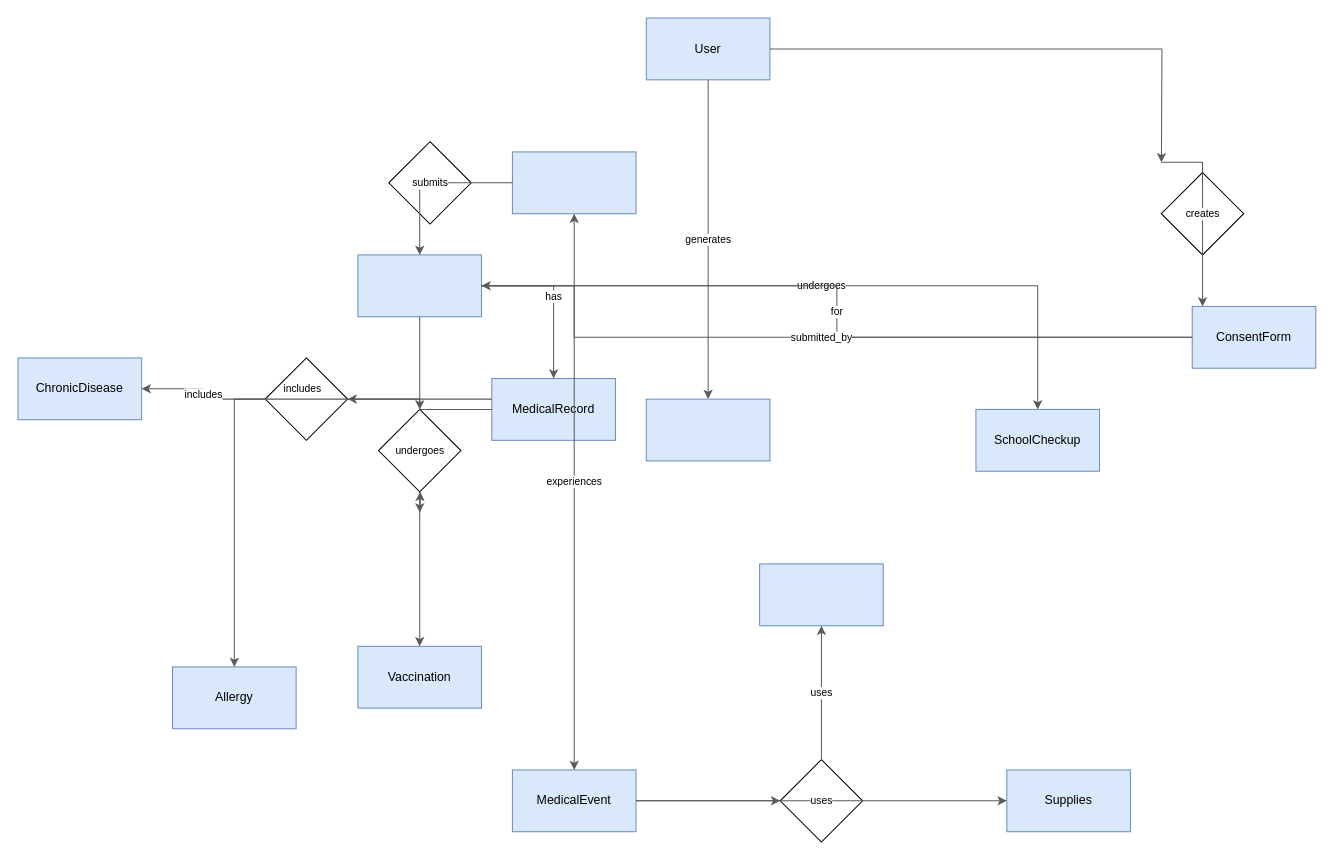
This 1334x860 diagram has some shape labels left out. The shapes that lost their labels are listed below. From the top down, each one's centre as x and y in pixels, then its label:
At (573,182): "Parent".
At (419,285): "Student".
At (707,429): "Report".
At (821,594): "Medicine".
